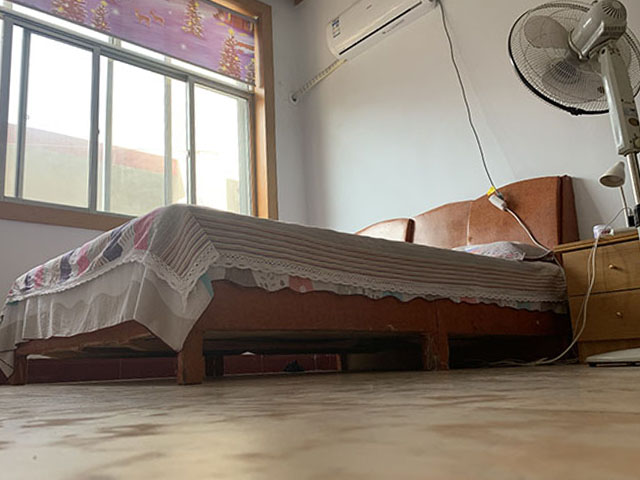bed: (1, 174, 582, 388)
cabinet: (557, 224, 640, 358)
wire: (480, 223, 611, 369)
